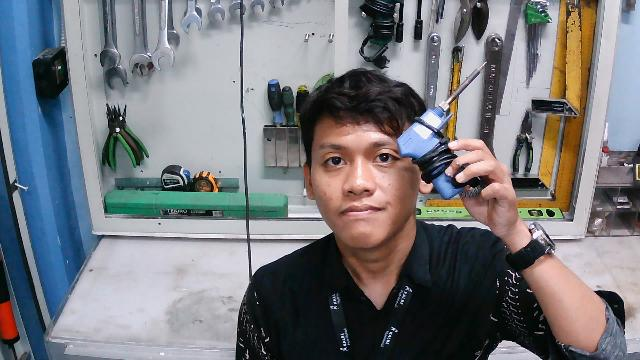solder_electrical: (398, 58, 491, 200)
